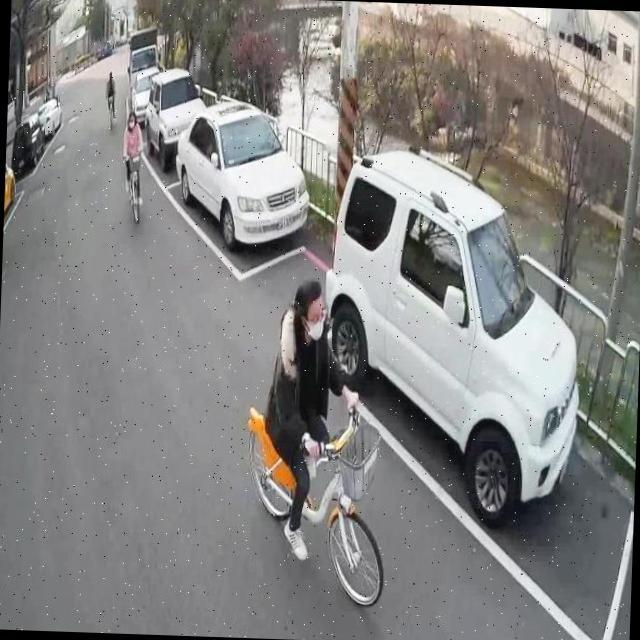person: (260, 272, 364, 560), (120, 104, 148, 206), (103, 68, 117, 120)
